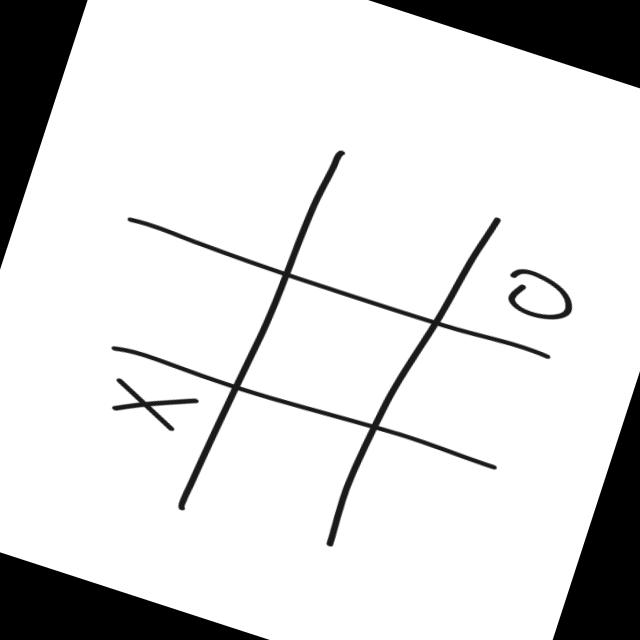O: (480, 240, 598, 342)
X: (88, 362, 208, 454)
grid: (5, 67, 632, 634)
